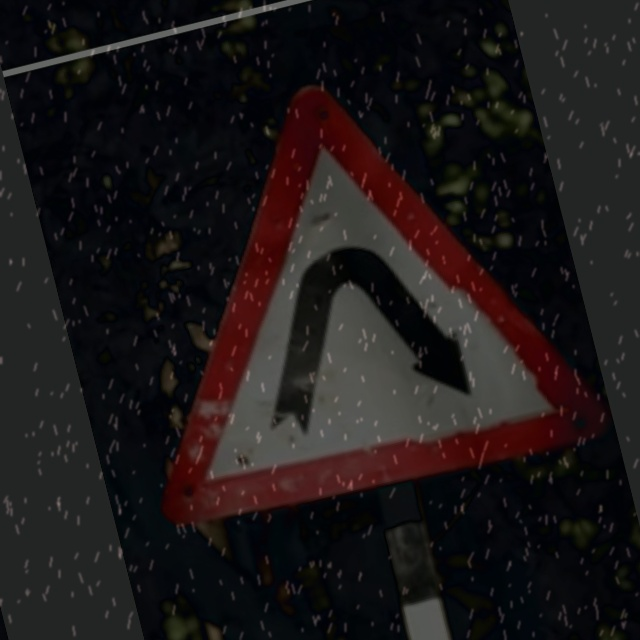Right_Hair_Pin_Bend: (75, 41, 595, 542)
